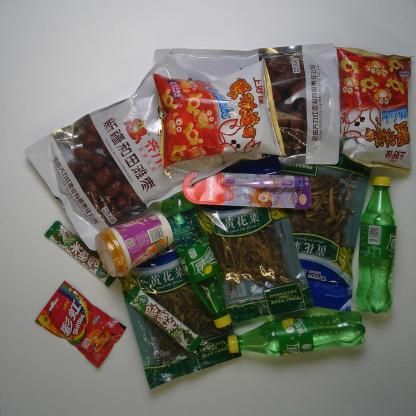Candy: (34, 280, 127, 369)
Chocolate: (123, 284, 204, 356), (44, 221, 118, 289)
Dried Food: (23, 59, 275, 253), (151, 42, 342, 167), (114, 209, 242, 391), (193, 179, 316, 325), (265, 147, 372, 314)
Drink: (160, 188, 232, 330), (226, 309, 366, 358), (356, 176, 398, 314)
Instant Drink: (93, 211, 174, 279)
Personal Hygiene: (181, 170, 313, 210)
Puffed Food: (152, 57, 285, 170), (332, 45, 415, 175)
